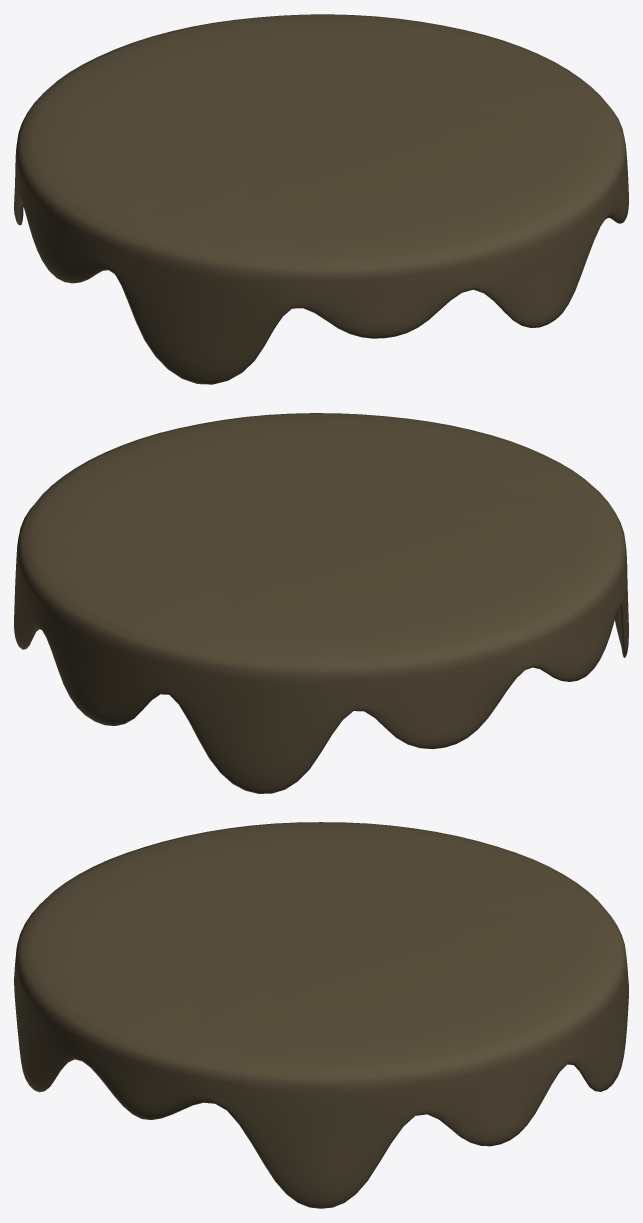
Rendered from cake_cream.glb.
3 views of the same model, one above another, from view 1: azimuth 30°, elevation 25°; view 2: azimuth 150°, elevation 25°; view 3: azimuth 270°, elevation 25° (orthographic).
Visible parts, largest first — view 1: pCylinder2; view 2: pCylinder2; view 3: pCylinder2.
Boxes of the visible parts, left/top/right/bottom form: pCylinder2: left=14, top=14, right=628, bottom=384; pCylinder2: left=14, top=413, right=628, bottom=793; pCylinder2: left=14, top=822, right=628, bottom=1208.
Bounding box in the file's own units: 3.95 × 1.01 × 3.93.
